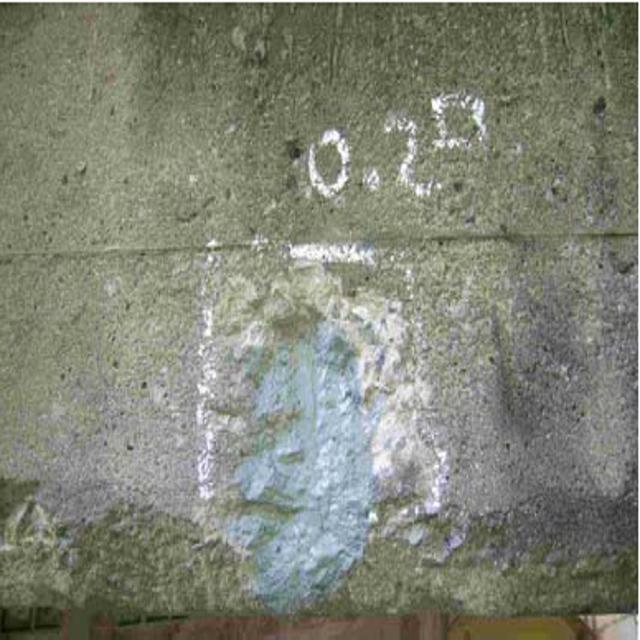spalling: (186, 247, 454, 614), (13, 444, 168, 623)
